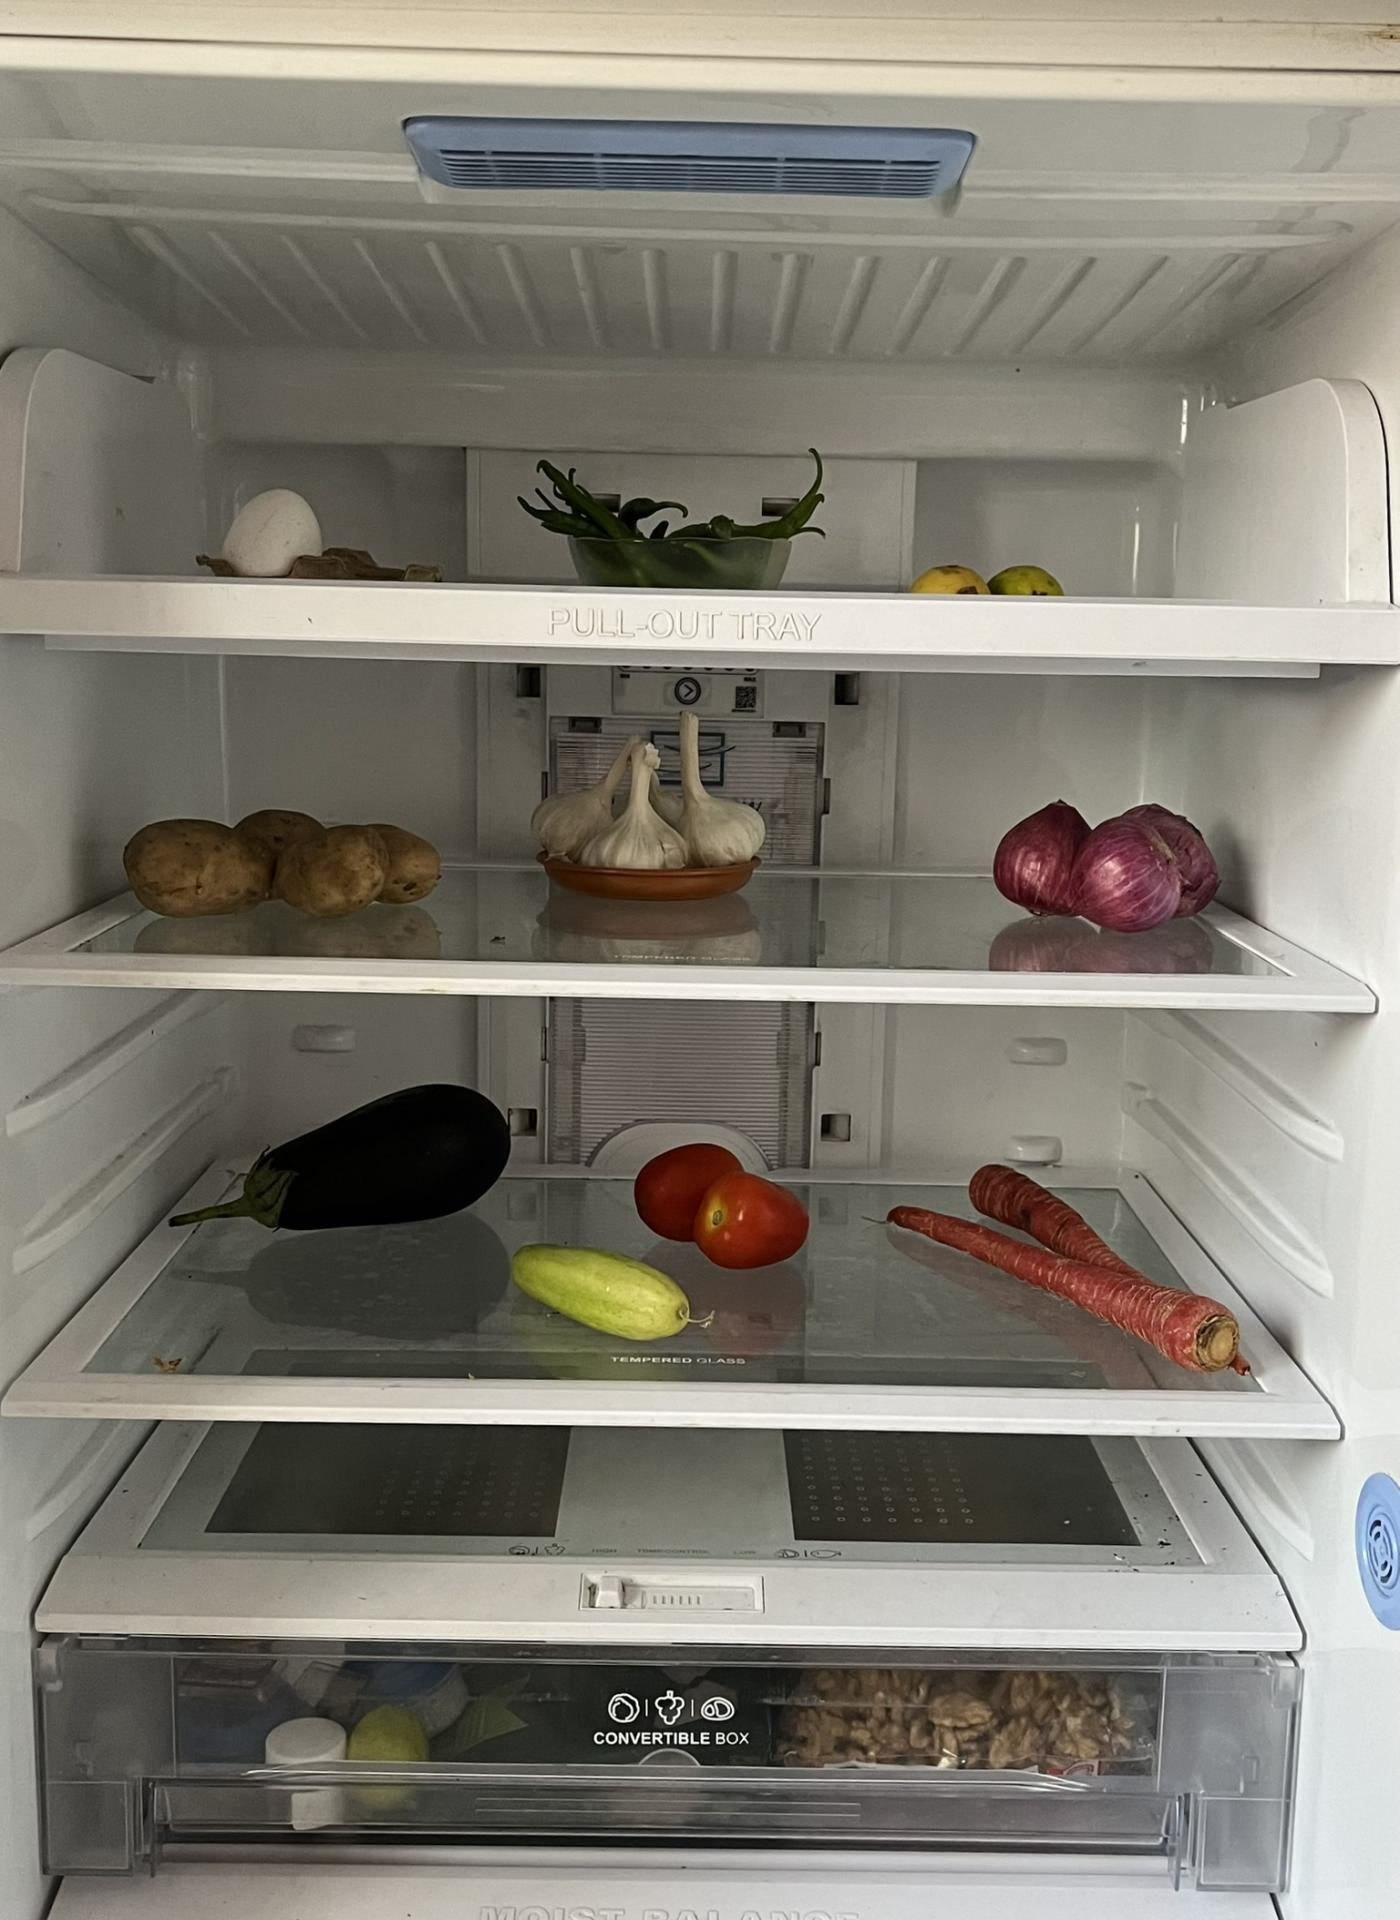brinjal: (183, 1079, 517, 1240)
carrots: (895, 1164, 1261, 1362)
chillies: (529, 465, 827, 602)
cucumber: (502, 1245, 696, 1337)
egg: (230, 480, 328, 583)
garlic: (525, 719, 784, 868)
lemon: (904, 550, 1068, 596)
onion: (999, 803, 1209, 921)
potato: (130, 799, 453, 908)
tomato: (640, 1140, 805, 1258)
